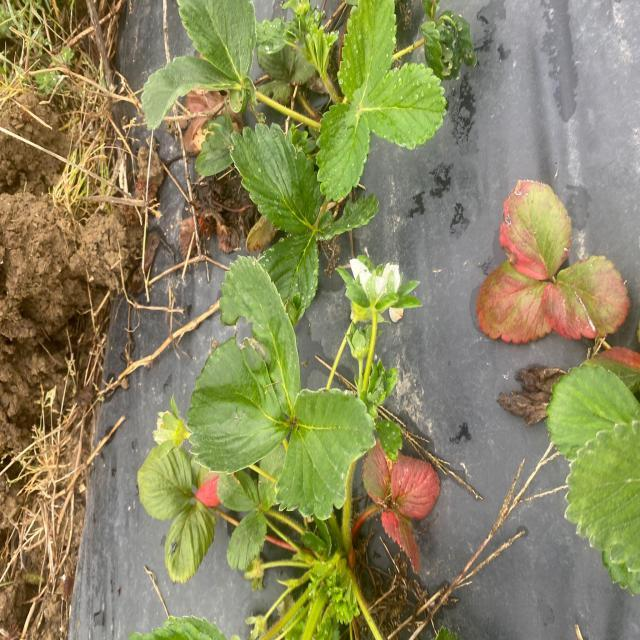flower: (337, 249, 421, 328)
